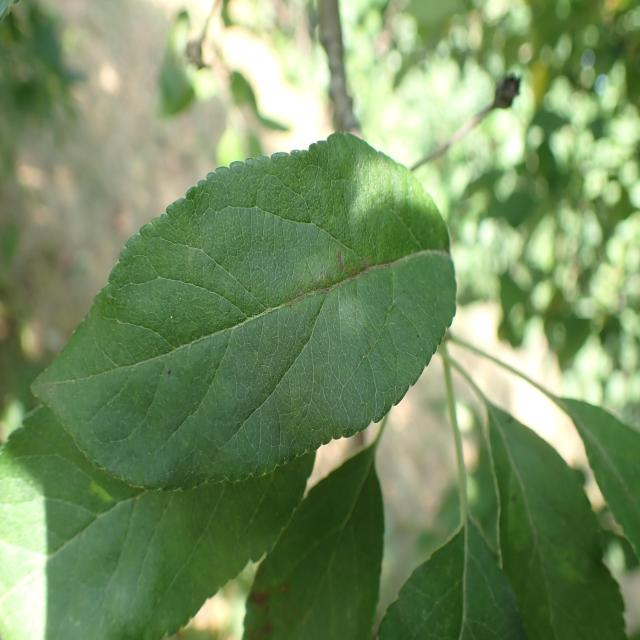scab: (217, 228, 430, 345)
